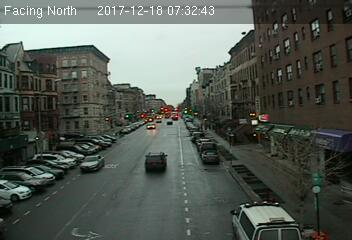car: (143, 151, 168, 172), (78, 154, 105, 173), (203, 150, 219, 163)
police: (228, 195, 312, 240)
